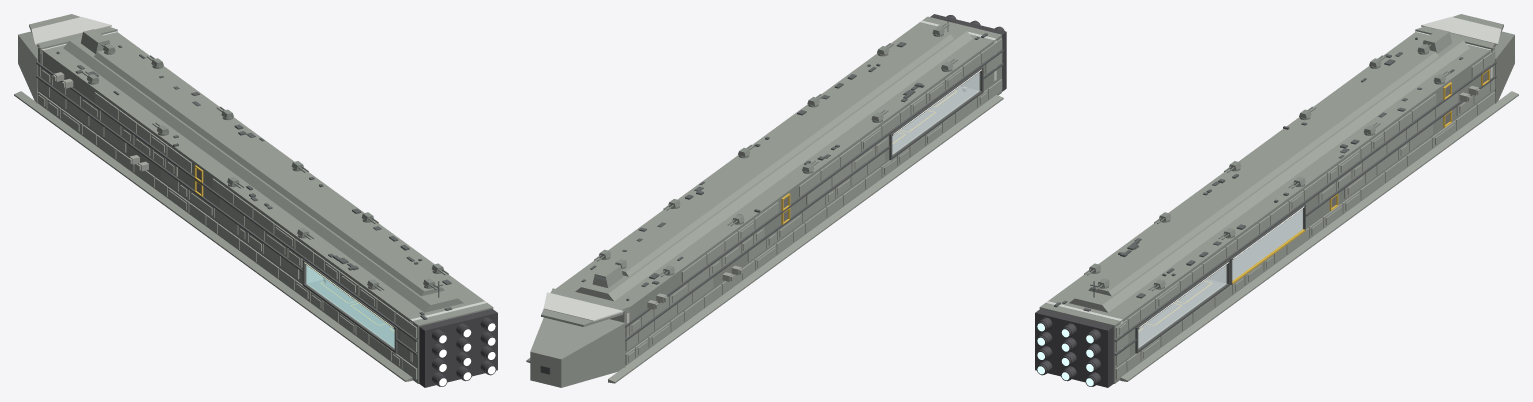
Rendered from ship_XL_v3.glb.
3 renders of one model, left to right at view 1: azimuth 30°, elevation 25°; view 2: azimuth 150°, elevation 25°; view 3: azimuth 330°, elevation 25°, orthographic.
Visible parts, largest first — view 1: XL_Hull-col, XL_Armor, XL_Engines, XL_Trim, XL_HangarShield_Port, XL_Accent, XL_Decks-col, XL_Details, XL_EngineGlow; view 2: XL_Hull-col, XL_Armor, XL_Trim, XL_HangarShield_Port, XL_Decks-col, XL_Accent, XL_Details, XL_Engines; view 3: XL_Hull-col, XL_Armor, XL_Engines, XL_Trim, XL_HangarShield_Starboard, XL_CargoBayShield, XL_Decks-col, XL_CargoBayDoor-col, XL_Accent, XL_Details, XL_Hazard, XL_EngineGlow.
Boxes of the visible parts, <box> form: XL_Hull-col: <box>14,14,493,383</box>; XL_Armor: <box>37,65,417,379</box>; XL_Engines: <box>419,309,497,387</box>; XL_Trim: <box>36,62,418,355</box>; XL_HangarShield_Port: <box>306,265,394,347</box>; XL_Accent: <box>31,17,487,362</box>; XL_Decks-col: <box>308,280,394,346</box>; XL_Details: <box>56,45,452,319</box>; XL_EngineGlow: <box>439,323,495,386</box>; XL_Hull-col: <box>526,16,1003,387</box>; XL_Armor: <box>625,38,1002,364</box>; XL_Trim: <box>625,49,1003,341</box>; XL_HangarShield_Port: <box>892,72,979,154</box>; XL_Decks-col: <box>892,86,977,153</box>; XL_Accent: <box>543,20,996,337</box>; XL_Details: <box>581,15,987,300</box>; XL_Engines: <box>540,14,1006,374</box>; XL_Hull-col: <box>1039,14,1518,383</box>; XL_Armor: <box>1115,50,1495,379</box>; XL_Engines: <box>1035,309,1113,387</box>; XL_Trim: <box>1114,62,1496,355</box>; XL_HangarShield_Starboard: <box>1138,265,1226,347</box>; XL_CargoBayShield: <box>1232,209,1302,280</box>; XL_Decks-col: <box>1138,279,1224,346</box>; XL_CargoBayDoor-col: <box>1232,209,1302,279</box>; XL_Accent: <box>1045,17,1501,349</box>; XL_Details: <box>1054,37,1463,311</box>; XL_Hazard: <box>1138,69,1489,331</box>; XL_EngineGlow: <box>1037,323,1093,386</box>.
Bounding box in the file's own units: 28.3 × 25.4 × 230.
